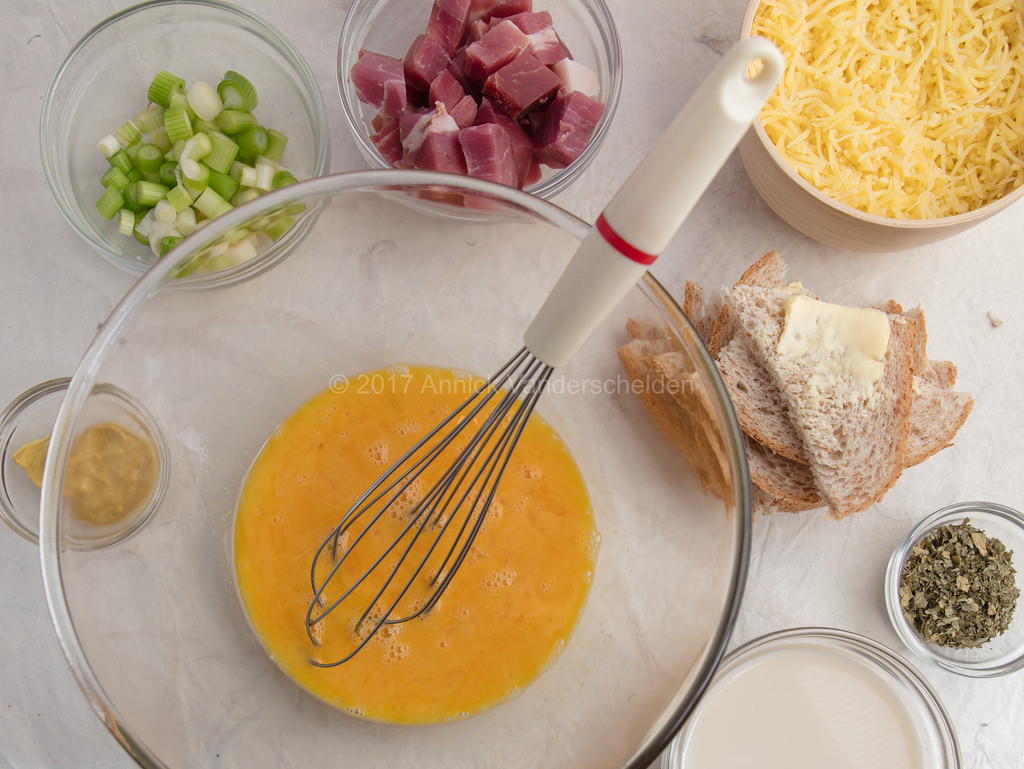slice of bread: (682, 272, 960, 500)
